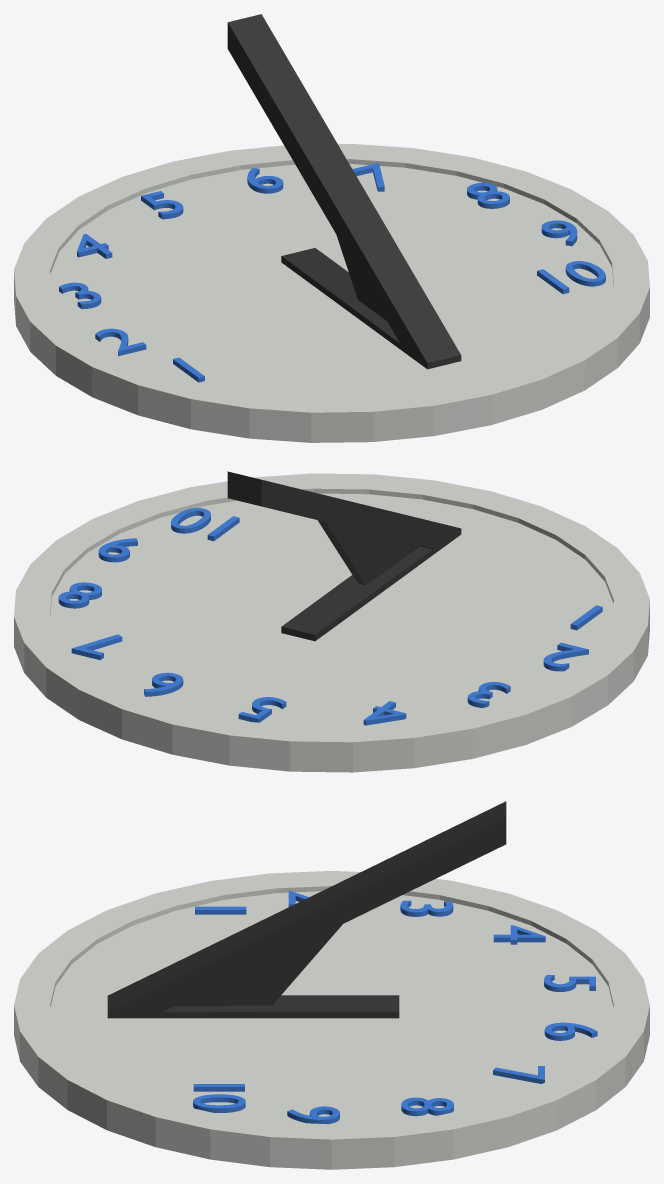
Rendered from sundial.glb.
The picture shows the model from 3 angles, top to bottom: view 1: azimuth 30°, elevation 25°; view 2: azimuth 150°, elevation 25°; view 3: azimuth 270°, elevation 25°; orthographic projection.
Parts seen in each view (by area): view 1: DialBase, Cube, Text; view 2: DialBase, Cube, Text; view 3: DialBase, Cube, Text.
Part boxes in pixels (<box>): DialBase: <box>14,144,649,442</box>; Cube: <box>227,14,461,369</box>; Text: <box>59,162,605,382</box>; DialBase: <box>14,473,649,772</box>; Cube: <box>227,471,461,641</box>; Text: <box>58,508,602,725</box>; DialBase: <box>14,871,649,1169</box>; Cube: <box>107,801,506,1018</box>; Text: <box>193,890,597,1124</box>.
Bounding box in the file's own units: 2 × 0.7841 × 2.
